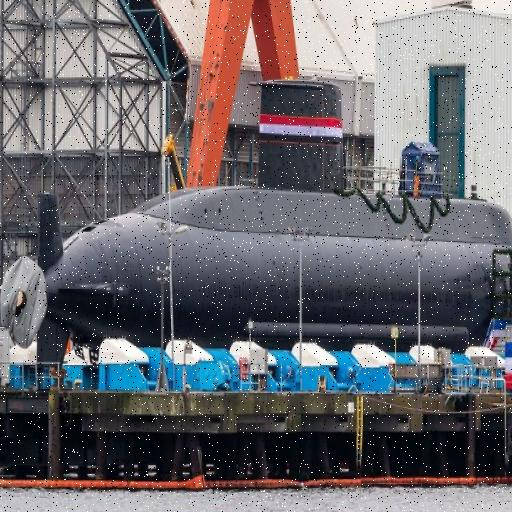submarine: (9, 78, 512, 375)
